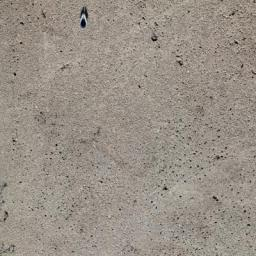FOD: (74, 3, 97, 39)
